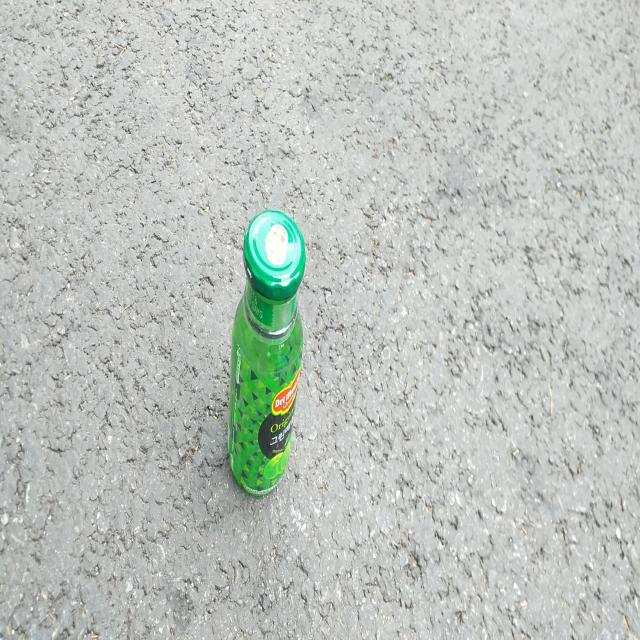glass: (228, 209, 306, 496)
